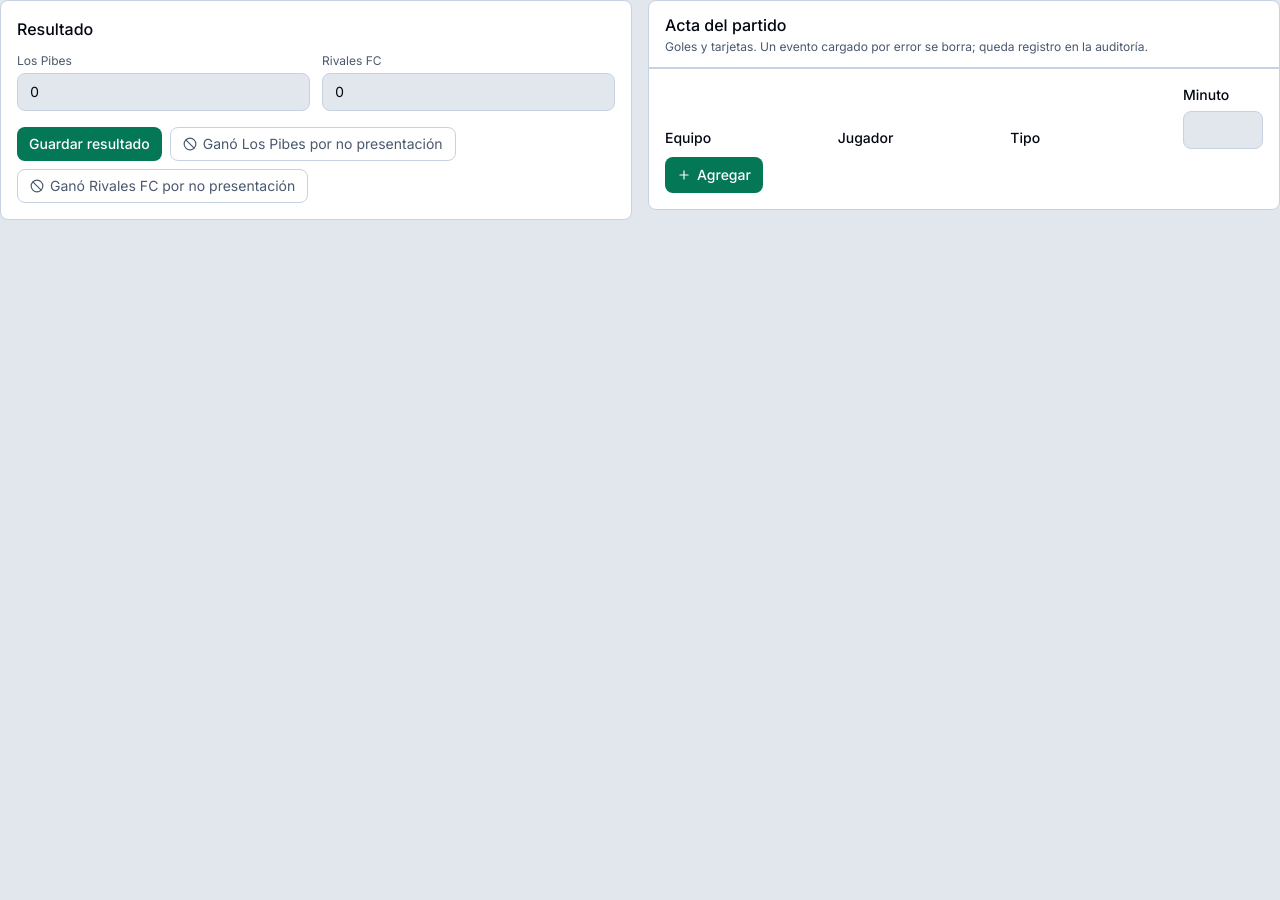
Test case: ActaPanel — walkover (Clase B: ConfirmDialog) › no ejecuta al primer click; confirma antes de cargar el walkover
The image size is (1280, 900).
Later steps or results of the test are not shown.
Click the button "Ganó Los Pibes por no presentación": {"x": 313, "y": 144} x1=170 y1=127 x2=456 y2=161
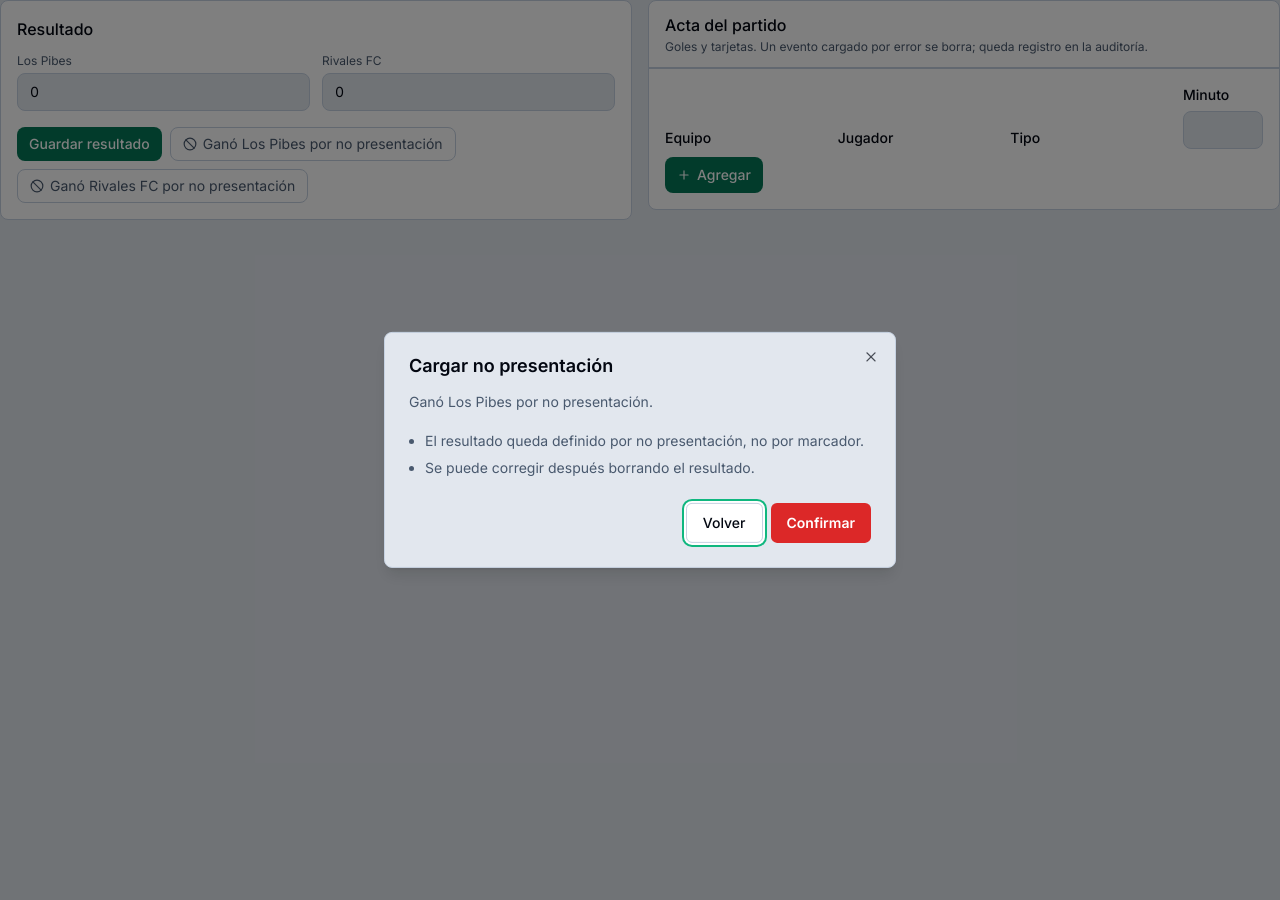
Now the text "Ganó Los Pibes por no presentación." is shown, box x1=409 y1=393 x2=653 y2=410
